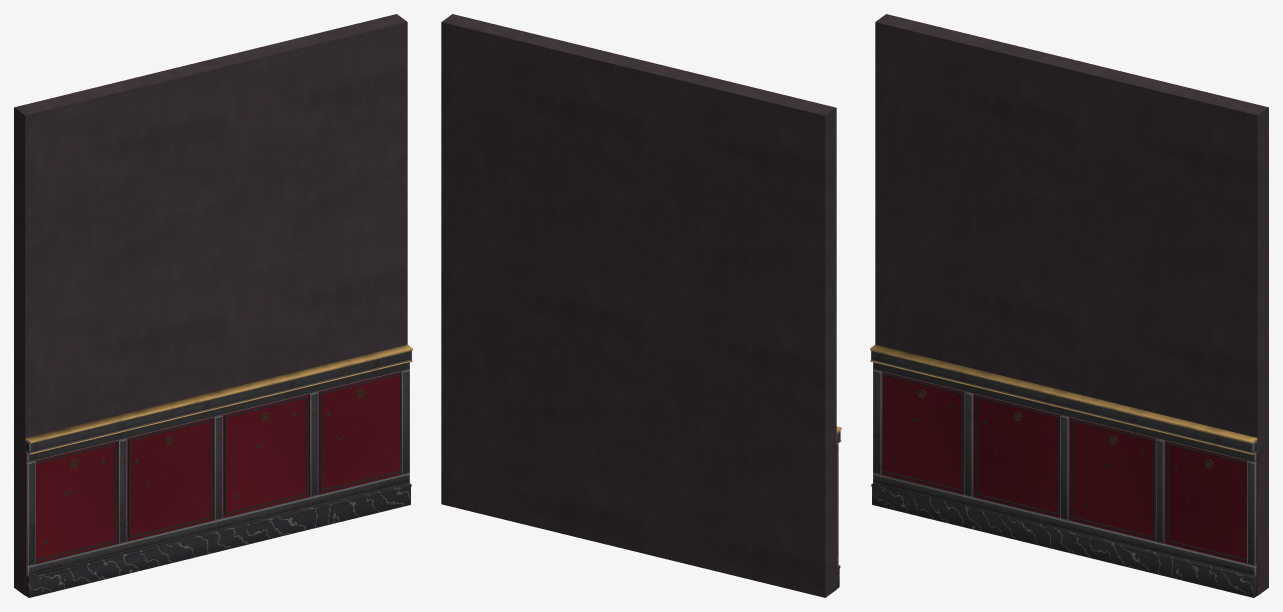
Rendered from DormWall.fbx.
3 views of the same model, side by side, from view 1: azimuth 30°, elevation 25°; view 2: azimuth 150°, elevation 25°; view 3: azimuth 330°, elevation 25° (orthographic).
Visible parts, largest first — view 1: DormWall_Plaster, DormWall_Panel, DormWall_Main; view 2: DormWall_Plaster; view 3: DormWall_Plaster, DormWall_Panel, DormWall_Main.
Boxes of the visible parts, x1,y1,x2,y2 form: DormWall_Plaster: (14,14,407,595); DormWall_Panel: (25,372,400,575); DormWall_Main: (25,345,412,597); DormWall_Plaster: (441,14,836,597); DormWall_Plaster: (875,14,1268,595); DormWall_Panel: (882,372,1257,575); DormWall_Main: (870,345,1257,597).
Bounding box in the file's own units: 1000 × 1200 × 74.
